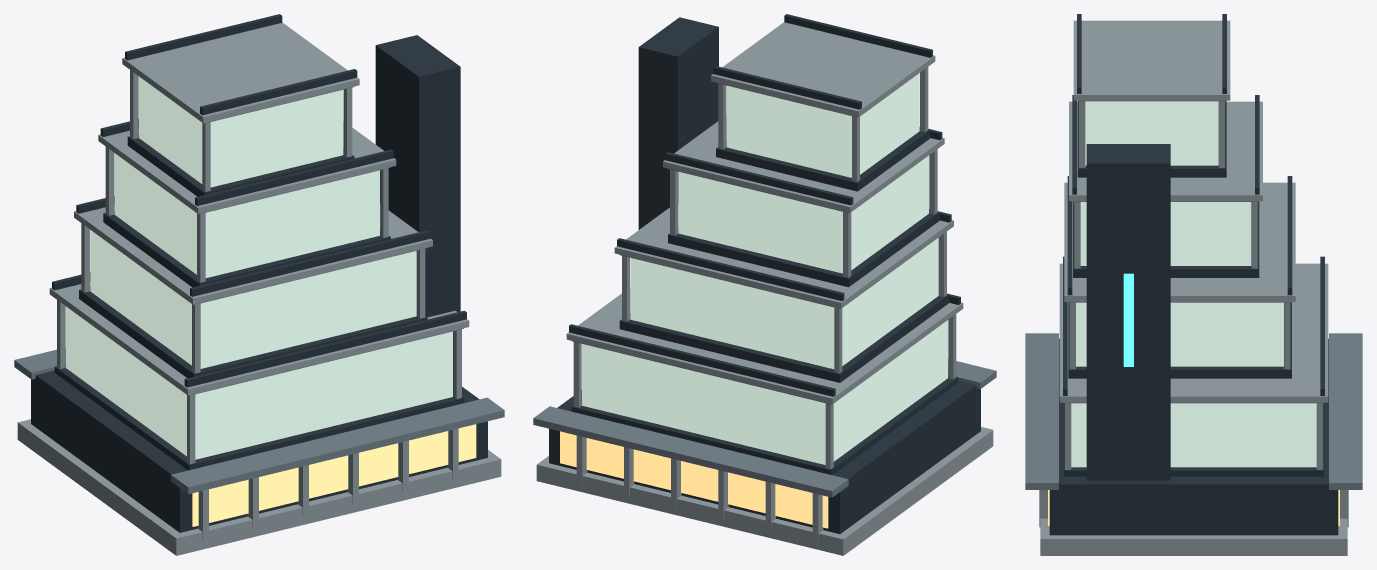
File: vrx_city_services_a_LOD1.fbx
3 views of the same model, side by side, from view 1: azimuth 30°, elevation 25°; view 2: azimuth 150°, elevation 25°; view 3: azimuth 270°, elevation 25° (orthographic). The views are drawn at different scales.
Parts seen in each view (by area): view 1: vrx_city_services_a_LOD1; view 2: vrx_city_services_a_LOD1; view 3: vrx_city_services_a_LOD1.
Boxes of the visible parts, <box> form: vrx_city_services_a_LOD1: <box>14,14,504,555</box>; vrx_city_services_a_LOD1: <box>533,14,996,555</box>; vrx_city_services_a_LOD1: <box>1025,14,1362,555</box>.
Bounding box in the file's own units: 39 × 48.5 × 36.2.
